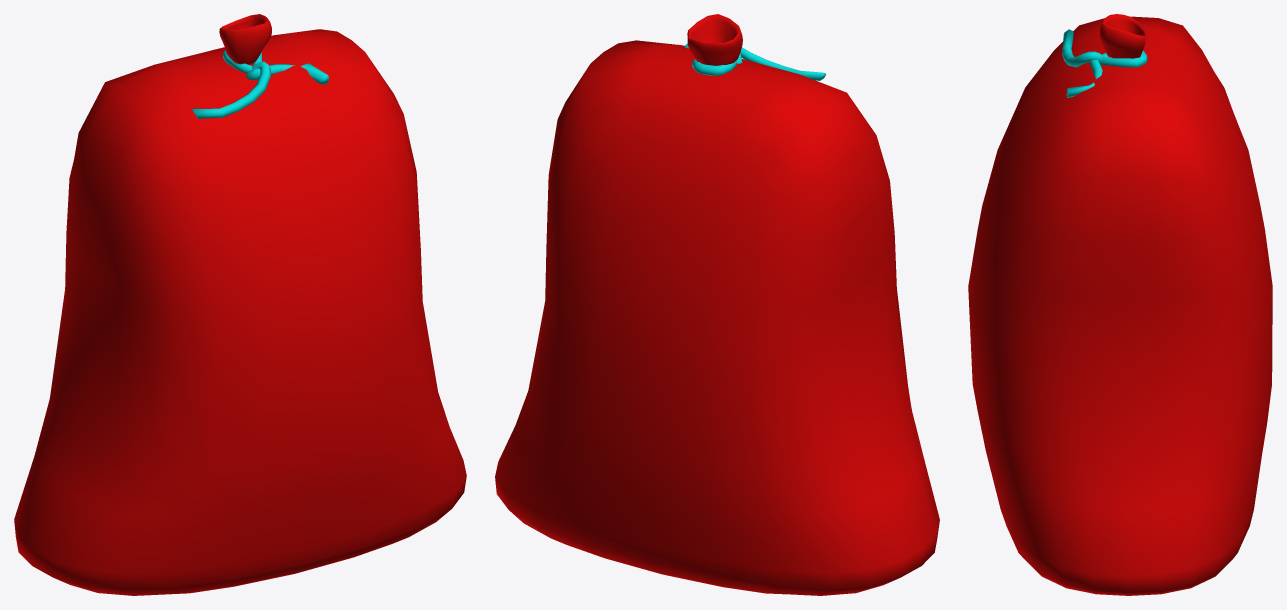
File: flourBag.fbx
3 views of the same model, side by side, from view 1: azimuth 30°, elevation 25°; view 2: azimuth 150°, elevation 25°; view 3: azimuth 270°, elevation 25° (orthographic). The views are drawn at different scales.
Parts seen in each view (by area): view 1: Cube.033; view 2: Cube.033; view 3: Cube.033.
Part boxes in pixels (box(x1,y1,x2,y2)): Cube.033: box(14, 14, 466, 595); Cube.033: box(495, 14, 939, 595); Cube.033: box(968, 14, 1272, 595).
Bounding box in the file's own units: 89.25 × 107 × 58.69.
